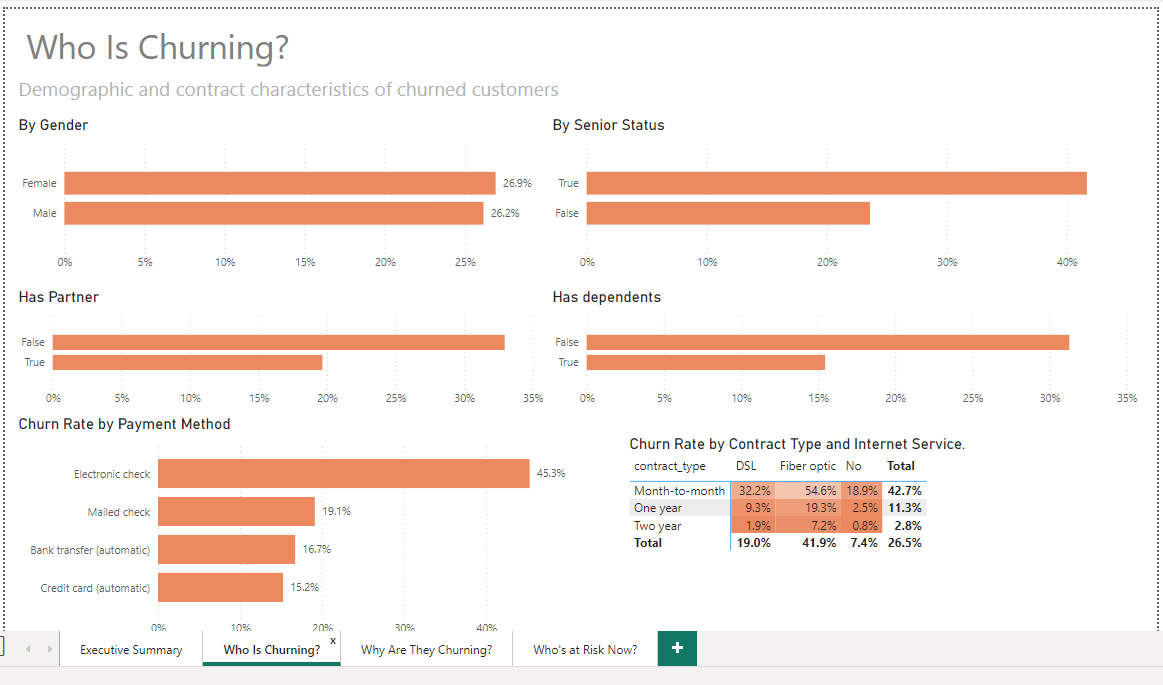

The page's visual inventory and layout, read from the dashboard file:
{"tool":"powerbi","page":{"name":"Who Is Churning?","canvas":[1280,720],"ordinal":1},"visuals":[{"type":"textbox","box":[10.4,10.4,319.6,58.8],"z":0},{"type":"textbox","box":[10.4,69.2,793.8,49.6],"z":1},{"type":"clusteredBarChart","title":"By Gender","fields":{"Category":["customer_360.gender"],"Y":["customer_360.Churn Rate"]},"box":[10.4,118.8,593.1,181.2],"z":2},{"type":"clusteredBarChart","title":"By Senior Status","fields":{"Category":["customer_360.senior_citizen"],"Y":["customer_360.Churn Rate"]},"box":[603.3,118.9,660,181.1],"z":3},{"type":"clusteredBarChart","title":"Churn Rate by Payment Method","fields":{"Category":["customer_360.payment_method"],"Y":["customer_360.Churn Rate"]},"box":[10.4,451.2,630,255],"z":4},{"type":"pivotTable","title":"Churn Rate by Contract Type and Internet Service.","fields":{"Rows":["customer_360.contract_type"],"Columns":["customer_360.internet_service"],"Values":["customer_360.Churn Rate"]},"box":[688.9,473.3,413.3,233.3],"z":5},{"type":"clusteredBarChart","title":"Has Partner","fields":{"Category":["customer_360.has_partner"],"Y":["customer_360.Churn Rate"]},"box":[10,310,593.3,141.1],"z":6},{"type":"clusteredBarChart","title":"Has dependents","fields":{"Category":["customer_360.has_dependents"],"Y":["customer_360.Churn Rate"]},"box":[603.3,310,660,141.1],"z":7}]}

Visuals, with their boxes on the page's 1280x720 design canvas (x1, y1, x2, y2). These are canvas units, not pixel positions in the 1163x685 screenshot, which may show the page scaled, cropped or inside an application window:
textbox: left=10, top=10, right=330, bottom=69
textbox: left=10, top=69, right=804, bottom=119
"By Gender" clusteredBarChart: left=10, top=119, right=604, bottom=300
"By Senior Status" clusteredBarChart: left=603, top=119, right=1263, bottom=300
"Churn Rate by Payment Method" clusteredBarChart: left=10, top=451, right=640, bottom=706
"Churn Rate by Contract Type and Internet Service." pivotTable: left=689, top=473, right=1102, bottom=707
"Has Partner" clusteredBarChart: left=10, top=310, right=603, bottom=451
"Has dependents" clusteredBarChart: left=603, top=310, right=1263, bottom=451
